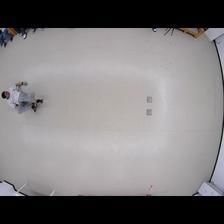fall: (1, 79, 45, 117)
